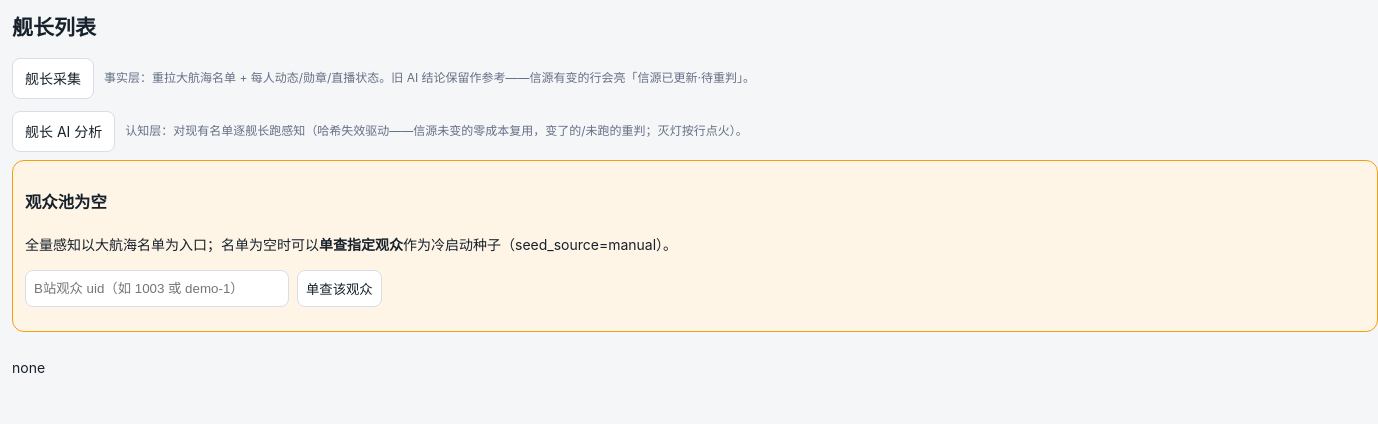
Test case: Viewers 单查入口的单飞互斥契约（R3-F1）：409 → 转入跟随，不裸报错 › 409（错文含在飞 run_id）→ tracker 收到在飞 id，页面现跟随徽标，无拒单错文
Expected: the element with test id "empty-pool-hint" is shown, top-left (12, 160), bottom-right (1377, 332)
空池布景（冷启动引导位）——只有名单为空才出现单查入口。
In the field named "单查观众 uid": (157, 288) top-left (25, 270), bottom-right (289, 307), type "1003"
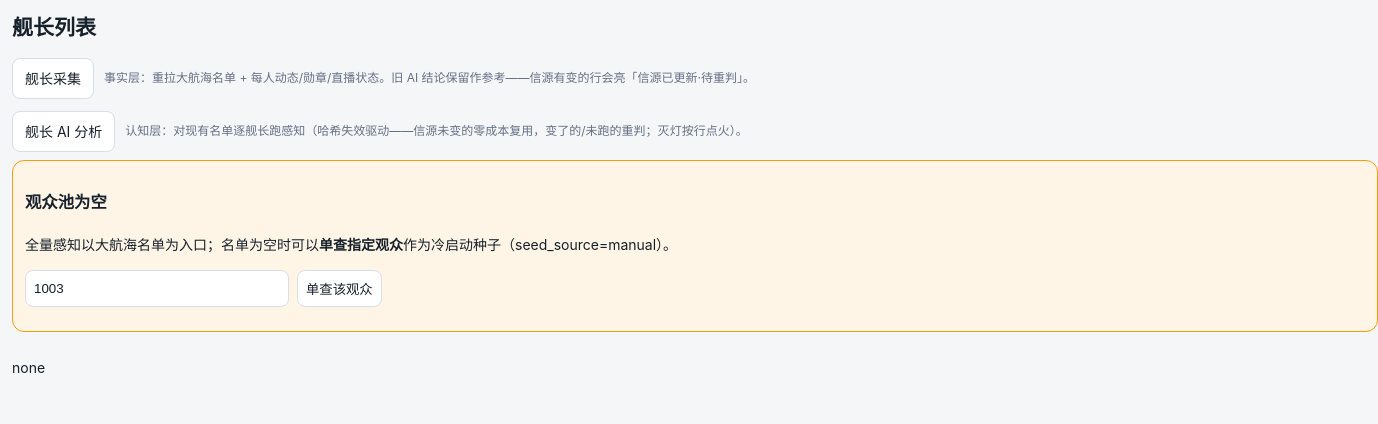
Click the button "单查该观众": (339, 288) top-left (297, 270), bottom-right (382, 307)
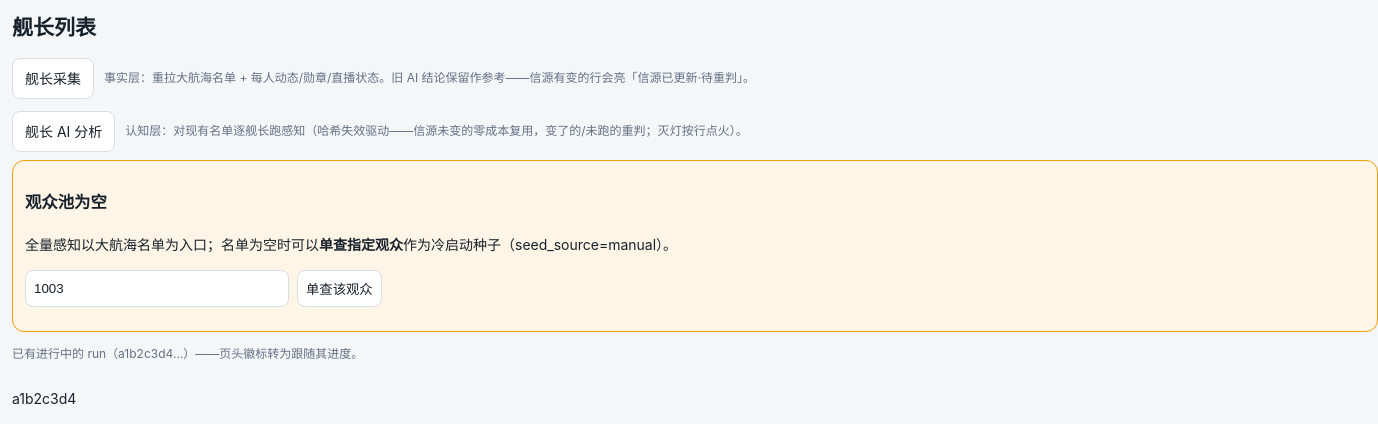
Expected: the text with test id "run-id" reads "a1b2c3d4", top-left (12, 390), bottom-right (76, 408)
Expected: the text "已有进行中的 run（a1b2c3d4…）——页头徽标转为跟随其进度。" is shown, top-left (12, 346), bottom-right (363, 361)
